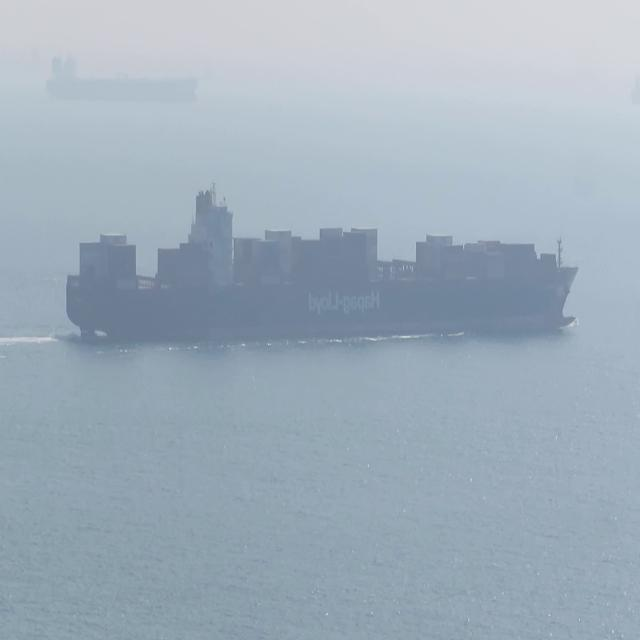cargoship: (67, 183, 577, 346), (47, 41, 196, 100)
